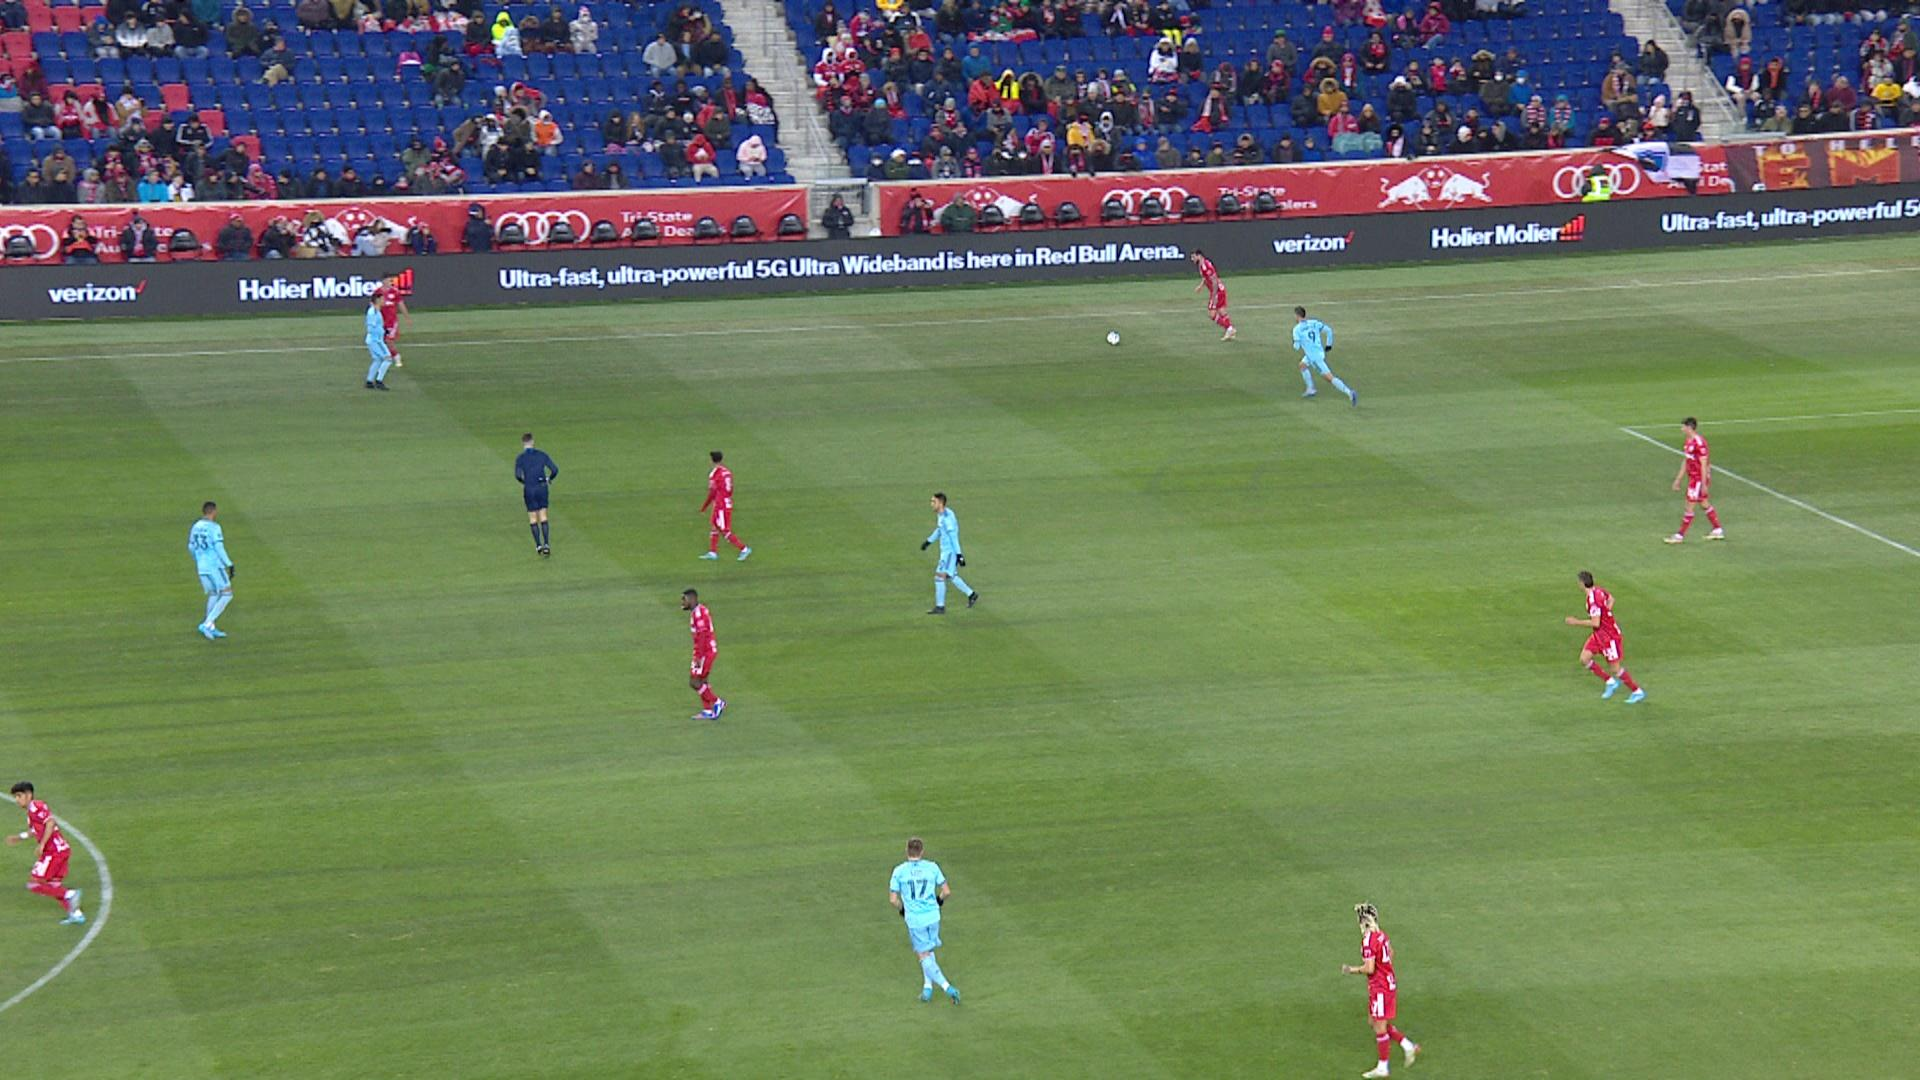football: (1105, 330, 1122, 347)
